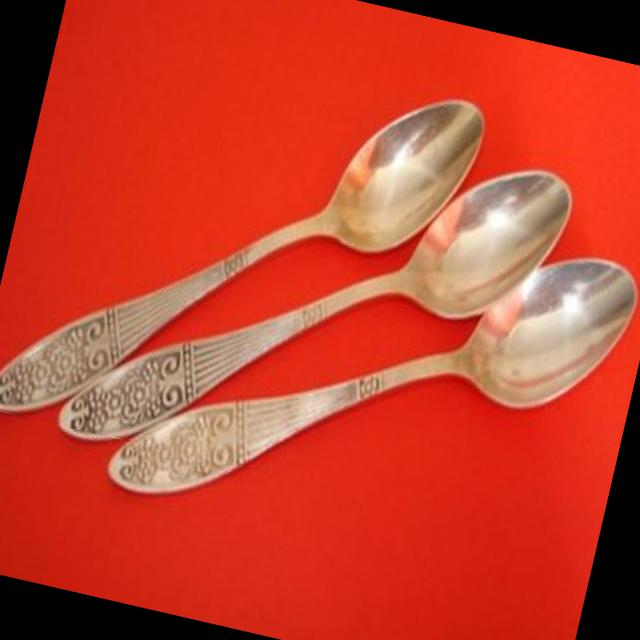spoon: (0, 0, 490, 518)
